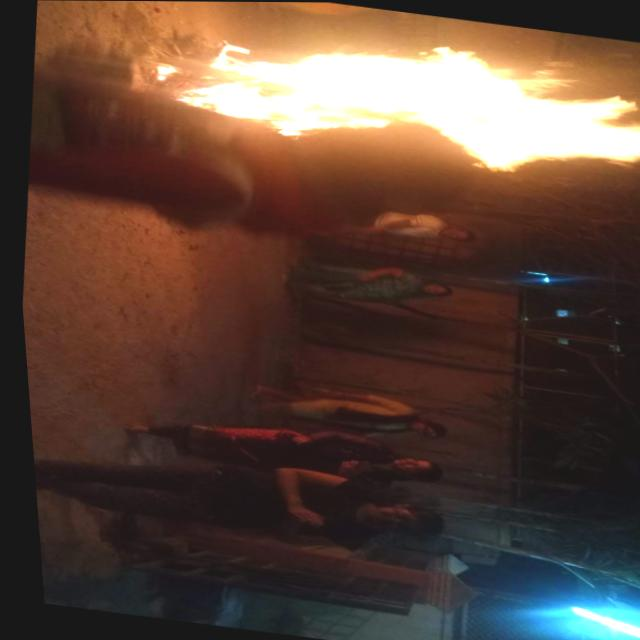helmet: (156, 9, 640, 190)
